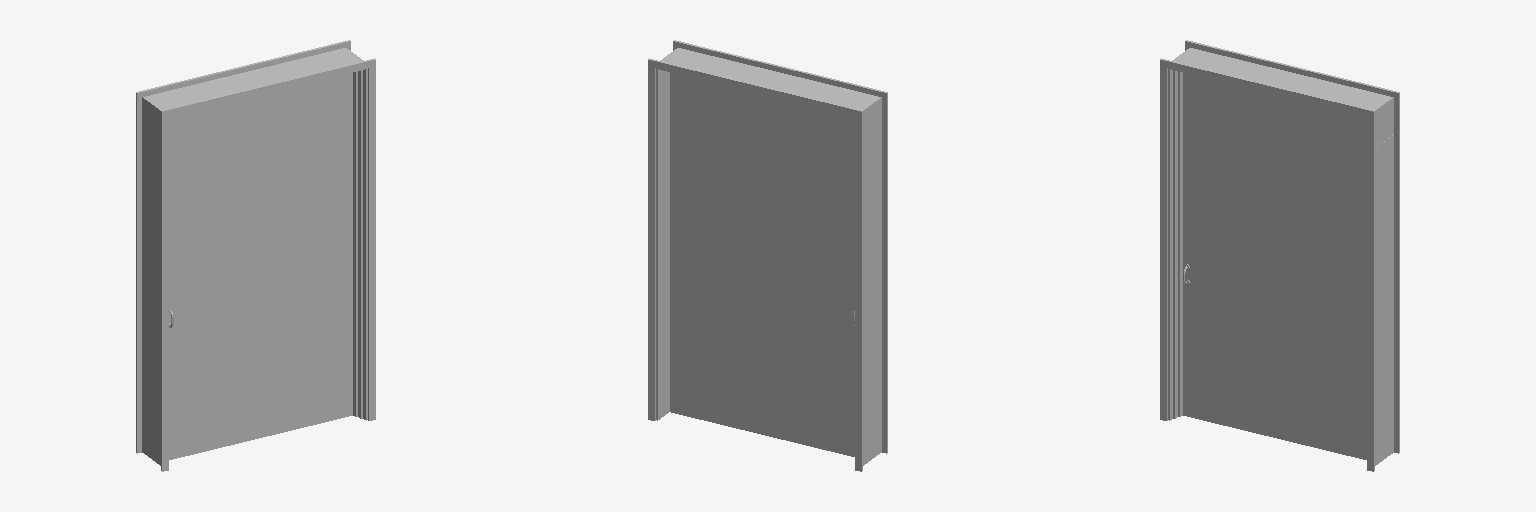
File: Door Hosp 2.obj
3 renders of one model, left to right at view 1: azimuth 30°, elevation 25°; view 2: azimuth 150°, elevation 25°; view 3: azimuth 330°, elevation 25°, orthographic.
Visible parts, largest first — view 1: DOOR GROUND_FLOOR PAINT_-_GOLDEN_BEIGE, DOOR GROUND_FLOOR PAINT_-_LEAD_OXIDE_YELLOW, DOOR GROUND_FLOOR PAINT_-_CADMIUM_ORANGE; view 2: DOOR GROUND_FLOOR PAINT_-_CELADON, DOOR GROUND_FLOOR PAINT_-_LEAD_OXIDE_YELLOW, DOOR GROUND_FLOOR PAINT_-_CADMIUM_ORANGE, DOOR GROUND_FLOOR PAINT_-_BORDEAUX; view 3: DOOR GROUND_FLOOR PAINT_-_GOLDEN_BEIGE, DOOR GROUND_FLOOR PAINT_-_LEAD_OXIDE_YELLOW, WALL GROUND_FLOOR PAINT_-_LIGHT_GRAY, DOOR GROUND_FLOOR PAINT_-_CADMIUM_ORANGE.
Boxes of the visible parts, x1,y1,x2,y2 form: DOOR GROUND_FLOOR PAINT_-_GOLDEN_BEIGE: [169, 73, 352, 459]; DOOR GROUND_FLOOR PAINT_-_LEAD_OXIDE_YELLOW: [136, 40, 375, 471]; DOOR GROUND_FLOOR PAINT_-_CADMIUM_ORANGE: [154, 56, 363, 465]; DOOR GROUND_FLOOR PAINT_-_CELADON: [672, 73, 854, 456]; DOOR GROUND_FLOOR PAINT_-_LEAD_OXIDE_YELLOW: [648, 40, 887, 471]; DOOR GROUND_FLOOR PAINT_-_CADMIUM_ORANGE: [667, 50, 878, 460]; DOOR GROUND_FLOOR PAINT_-_BORDEAUX: [670, 72, 671, 412]; DOOR GROUND_FLOOR PAINT_-_GOLDEN_BEIGE: [1183, 73, 1366, 459]; DOOR GROUND_FLOOR PAINT_-_LEAD_OXIDE_YELLOW: [1160, 40, 1399, 471]; WALL GROUND_FLOOR PAINT_-_LIGHT_GRAY: [1375, 135, 1393, 465]; DOOR GROUND_FLOOR PAINT_-_CADMIUM_ORANGE: [1172, 56, 1381, 418].
Bounding box in the file's own units: 1.57 × 2.54 × 0.338.